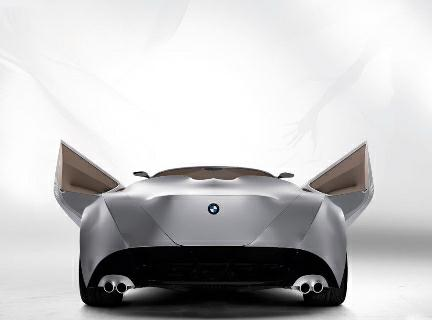宝马-GINA: (78, 163, 352, 310)
